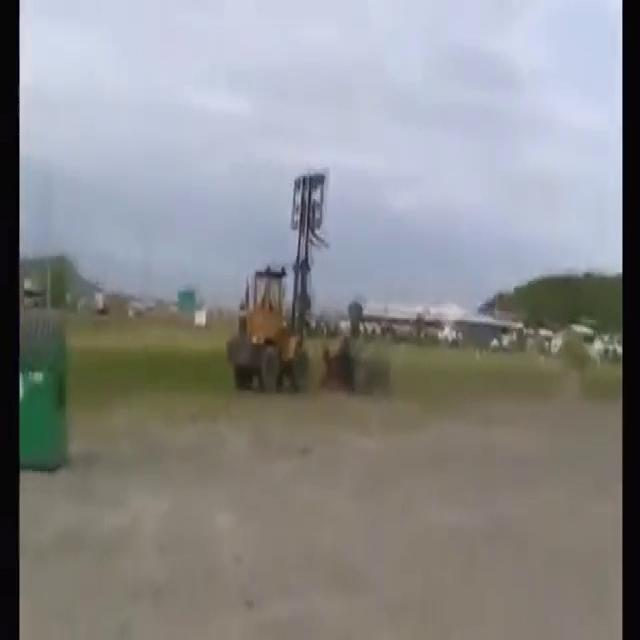Chariot elevateur: (227, 163, 332, 394)
